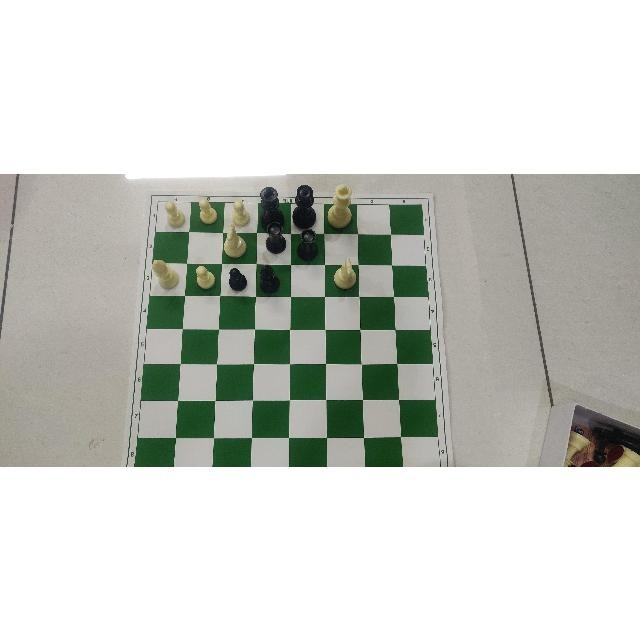black-bishop: (259, 265, 281, 293)
black-king: (259, 185, 284, 226)
black-pawn: (229, 267, 248, 291)
black-queen: (293, 184, 317, 226)
black-rook: (265, 220, 287, 253), (297, 227, 319, 260)
white-bishop: (149, 254, 180, 294)
white-king: (327, 181, 352, 228)
white-knight: (223, 223, 249, 259), (333, 256, 357, 288)
white-pawn: (164, 200, 186, 226), (199, 198, 219, 224), (196, 264, 216, 289), (232, 199, 250, 224)
